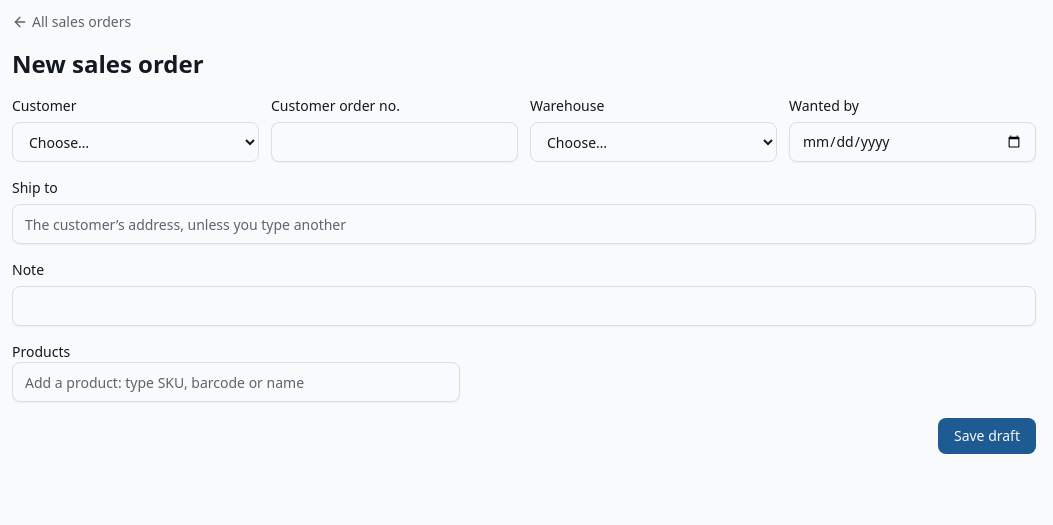
Scenario: picks a customer (their address is the default ship-to), adds cases and saves the draft
The image size is (1053, 525).
Later steps or results of the test are not shown.
Click the button "Save draft" at coordinates (987, 436), box [938,418,1036,454]
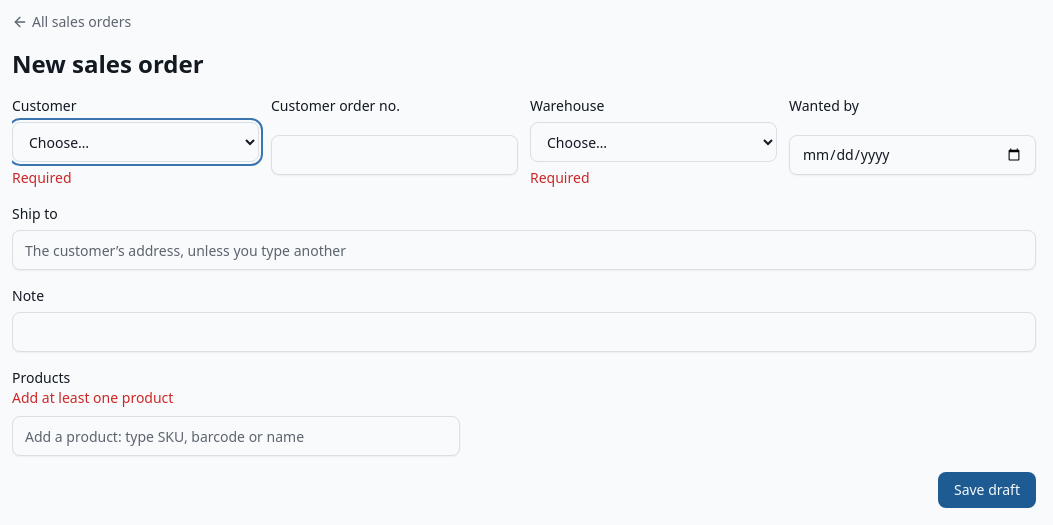
Check: the text "Add at least one product" is shown, box [12,388,173,407]
Select "Kandy Super (CUS-1)" in the dropdown labelled "Customer" at coordinates (136, 142), box [12,122,259,162]
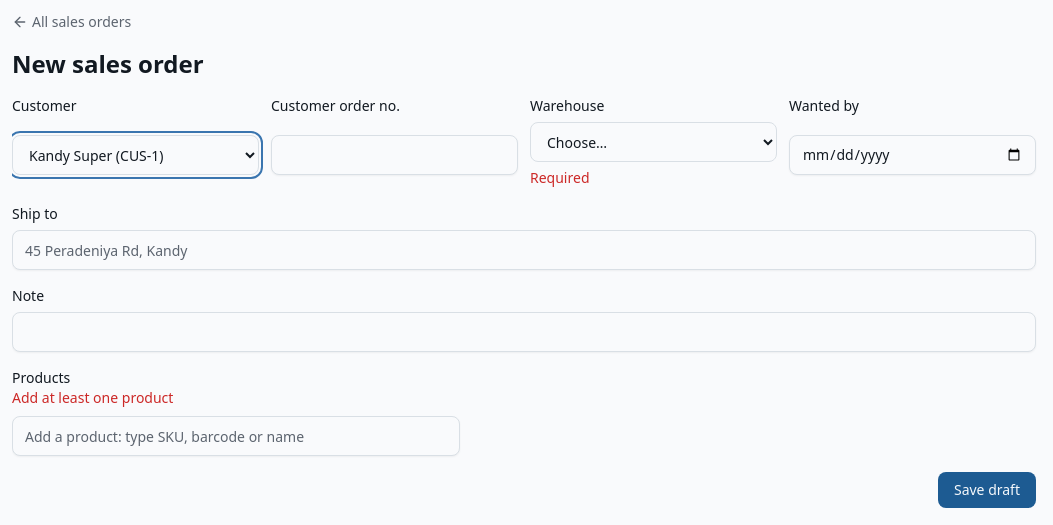
Check: the field labelled "Ship to" has attribute placeholder="45 Peradeniya Rd, Kandy", box [12,230,1036,270]
